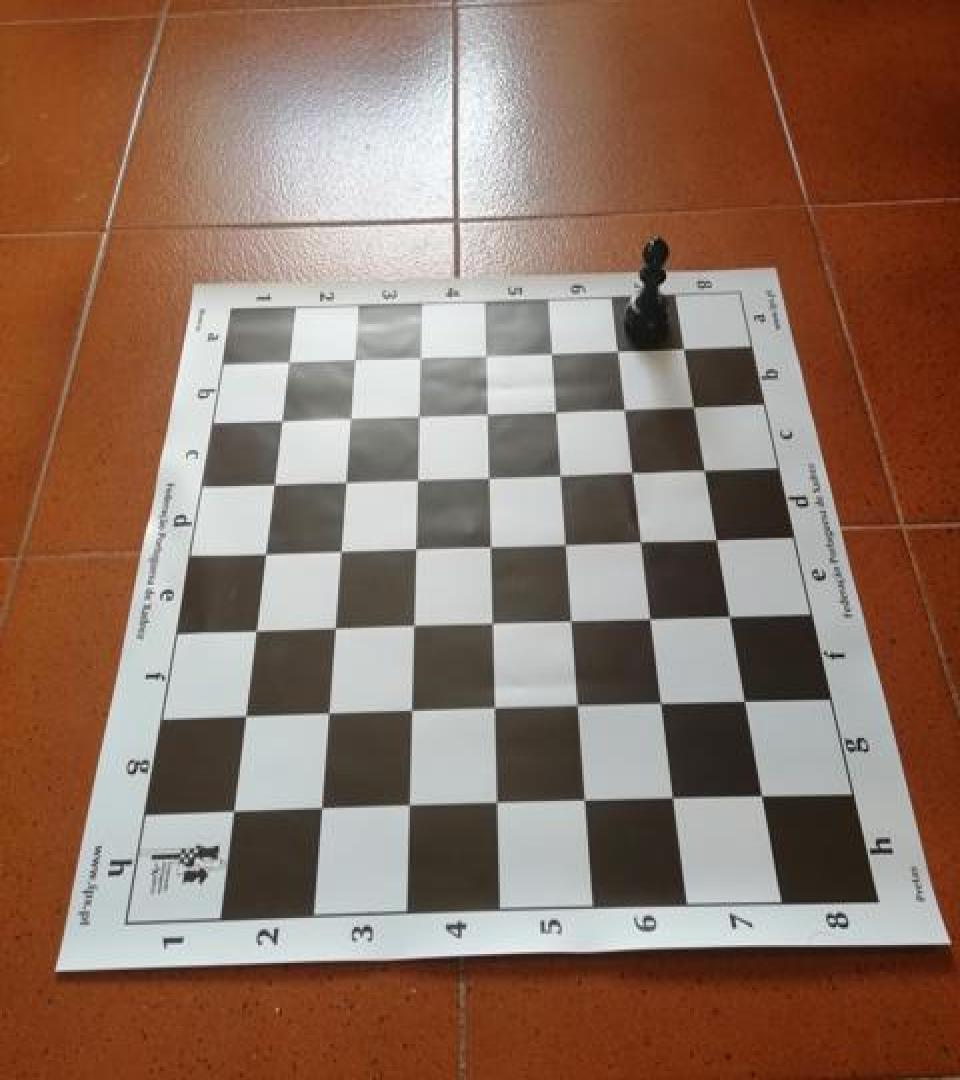xcorner: (248, 536, 280, 573), (476, 608, 508, 645), (646, 689, 678, 726), (312, 697, 344, 734), (569, 786, 601, 823), (670, 332, 702, 368), (603, 333, 635, 369), (537, 335, 569, 371), (470, 338, 502, 374), (404, 338, 436, 374), (337, 341, 369, 377), (271, 343, 303, 379), (610, 392, 642, 428), (541, 395, 573, 431), (471, 396, 503, 432), (402, 398, 434, 434), (333, 400, 365, 436), (264, 402, 296, 438), (691, 454, 723, 490), (618, 457, 650, 493), (545, 459, 577, 495), (473, 461, 505, 497), (401, 462, 433, 498), (328, 464, 360, 500), (256, 467, 288, 503), (703, 526, 735, 562), (627, 528, 659, 564), (550, 529, 582, 565), (475, 531, 507, 567), (399, 533, 431, 569), (323, 536, 355, 572), (716, 602, 748, 638), (636, 604, 668, 640), (556, 606, 588, 642), (397, 610, 429, 646), (318, 612, 350, 648), (239, 614, 271, 650), (730, 688, 762, 724), (562, 692, 594, 728), (478, 693, 510, 729), (395, 695, 427, 731), (228, 700, 260, 736), (746, 782, 778, 818), (657, 784, 689, 820), (481, 788, 513, 824), (393, 790, 425, 826), (305, 792, 337, 828), (217, 793, 249, 829), (680, 391, 712, 426)
